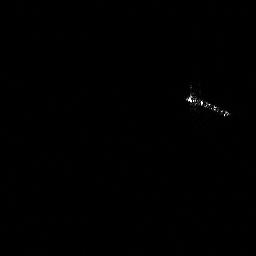ship: (182, 86, 234, 121)
